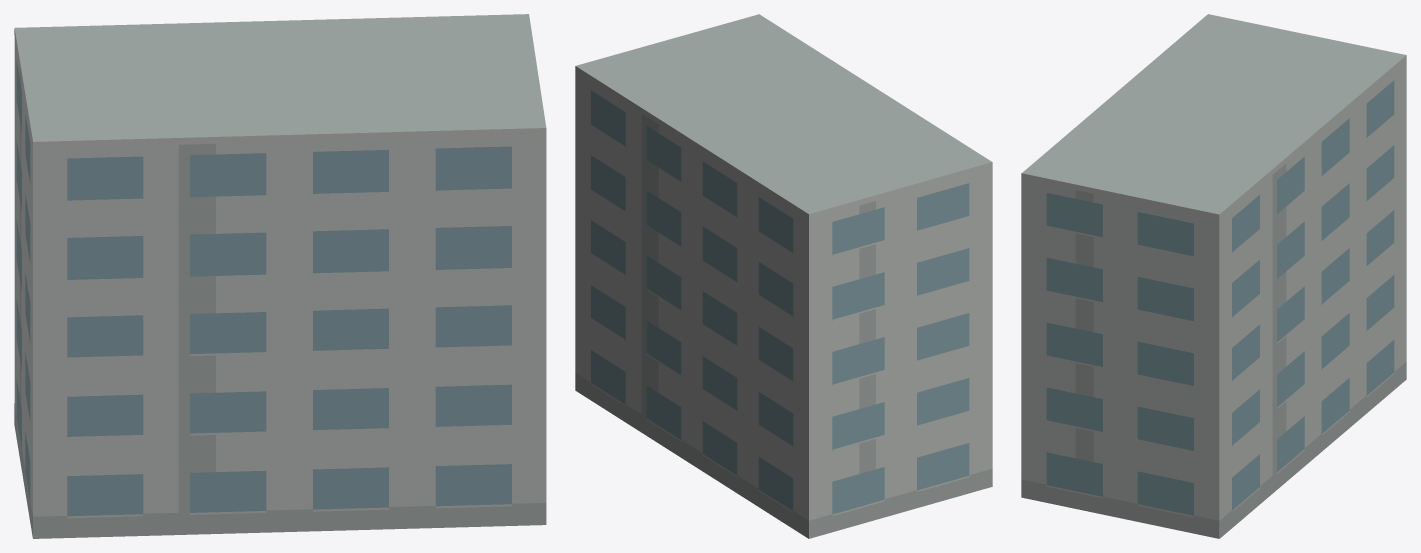
The model's file is survey-upis-32852769.glb.
3 renders of one model, left to right at view 1: azimuth 30°, elevation 25°; view 2: azimuth 150°, elevation 25°; view 3: azimuth 270°, elevation 25°, orthographic. The views are drawn at different scales.
Visible parts, largest first — view 1: survey-upis-32852769.tmp; view 2: survey-upis-32852769.tmp; view 3: survey-upis-32852769.tmp.
Part boxes in pixels (x1,y1,x2,y2): survey-upis-32852769.tmp: (14,14,546,538); survey-upis-32852769.tmp: (575,14,992,538); survey-upis-32852769.tmp: (1021,14,1406,538).
Bounding box in the file's own units: 18.7 × 14.1 × 15.19.
